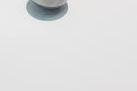ironball: (24, 0, 70, 22)
